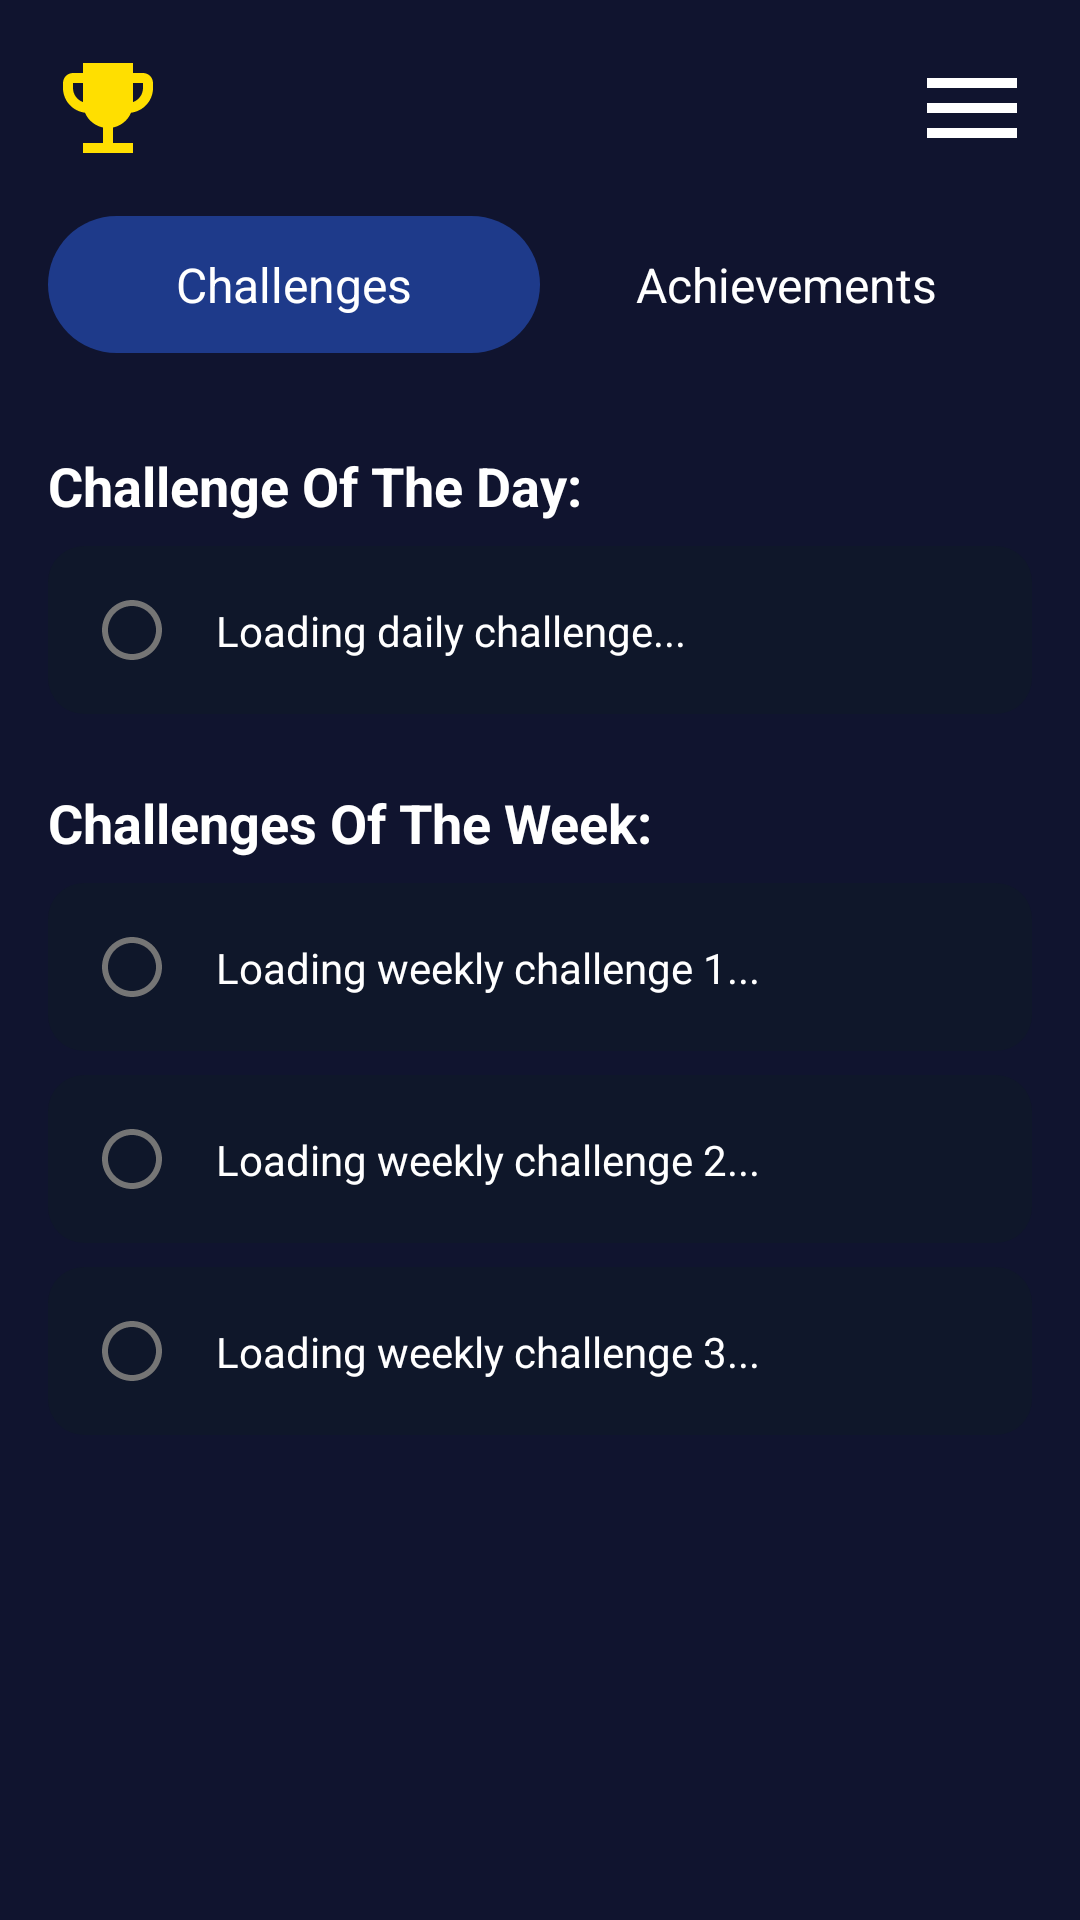

Named icons in this screenshot (1080×1920) and their centers, point (x, y):
menu: point (972, 108)
trophy: point (108, 108)
unchecked circle: point (132, 630), point (132, 967), point (132, 1159), point (132, 1351)
